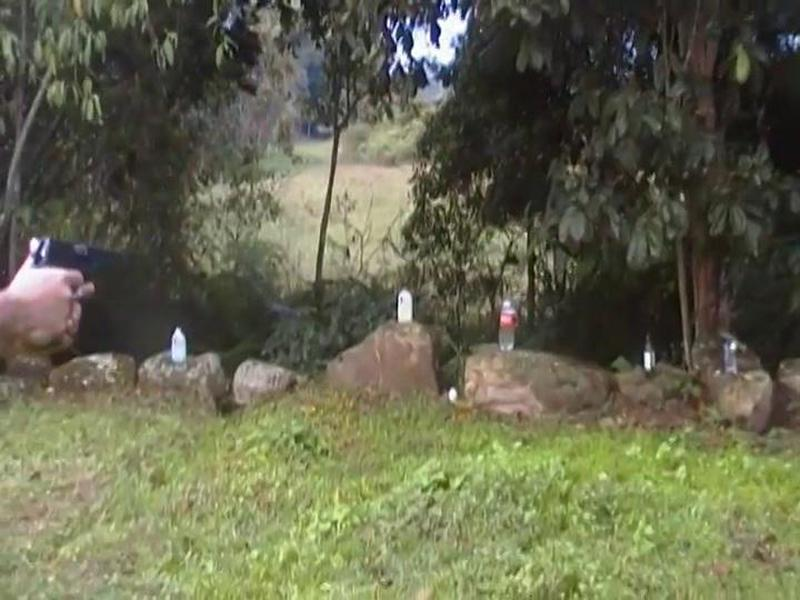Pistola: (17, 224, 147, 316)
